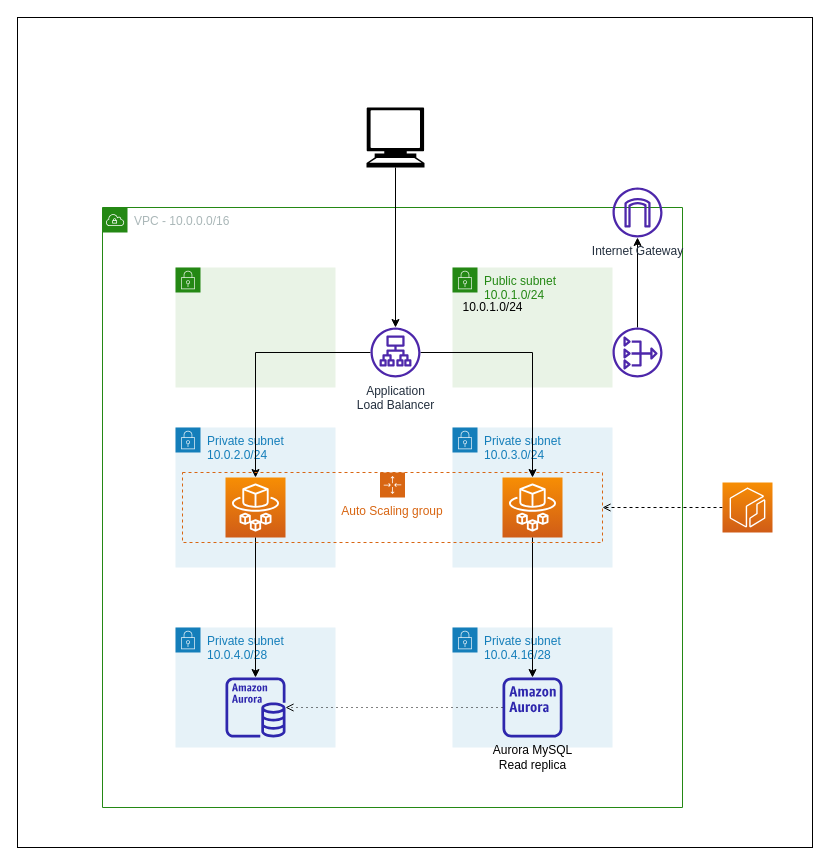
This 830x865 diagram has some shape labels left out. The centre of each missing label's shape, as x and y in pixels:
Amazon ECR: point (747, 507)
Aurora MySQL: point (255, 707)
Nat Gateway: point (637, 352)
Public subnet 10.0.0.0/24: point (255, 327)
User Client: point (395, 137)
